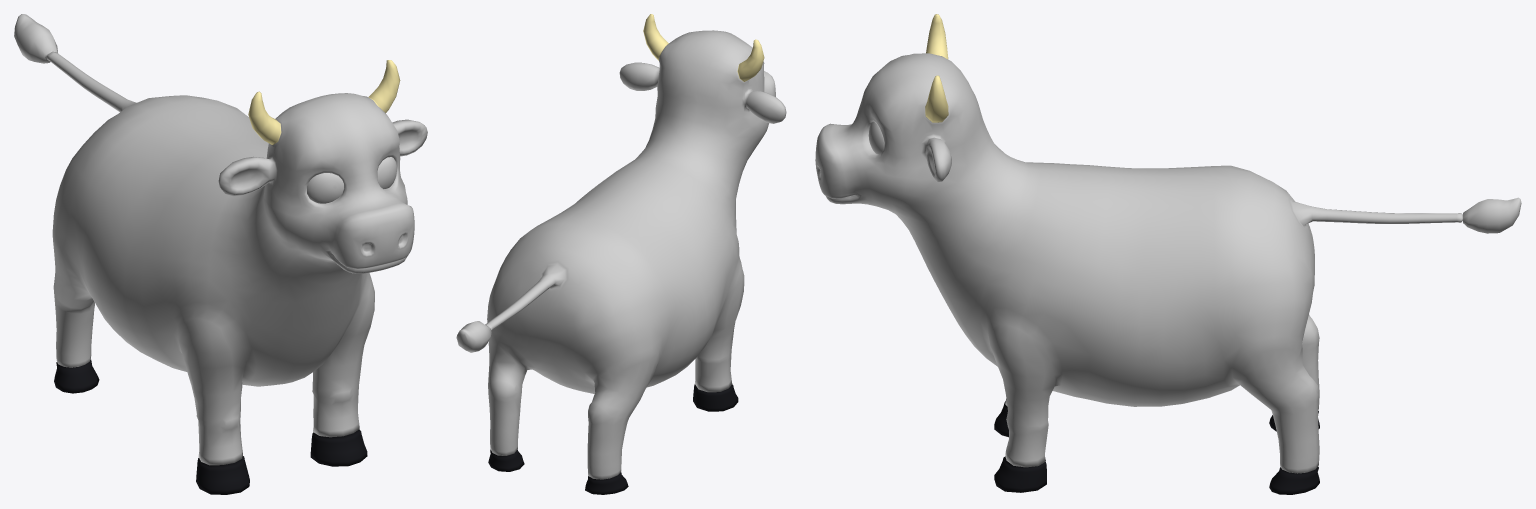
The model's file is C_BABY_COW.obj.
3 renders of one model, left to right at view 1: azimuth 30°, elevation 25°; view 2: azimuth 150°, elevation 25°; view 3: azimuth 270°, elevation 25°, orthographic. The views are drawn at different scales.
Parts seen in each view (by area): view 1: GEO_BODY_COW, GEO_EYES_R_COW, GEO_EYES_L_COW; view 2: GEO_BODY_COW; view 3: GEO_BODY_COW.
Boxes of the visible parts, bbox=[...] form: GEO_BODY_COW: bbox=[14, 14, 427, 494]; GEO_EYES_R_COW: bbox=[307, 173, 343, 203]; GEO_EYES_L_COW: bbox=[377, 157, 396, 188]; GEO_BODY_COW: bbox=[456, 14, 786, 494]; GEO_BODY_COW: bbox=[815, 14, 1521, 494].
Size of the model in its own units: 1.34 by 2.48 by 3.87.
